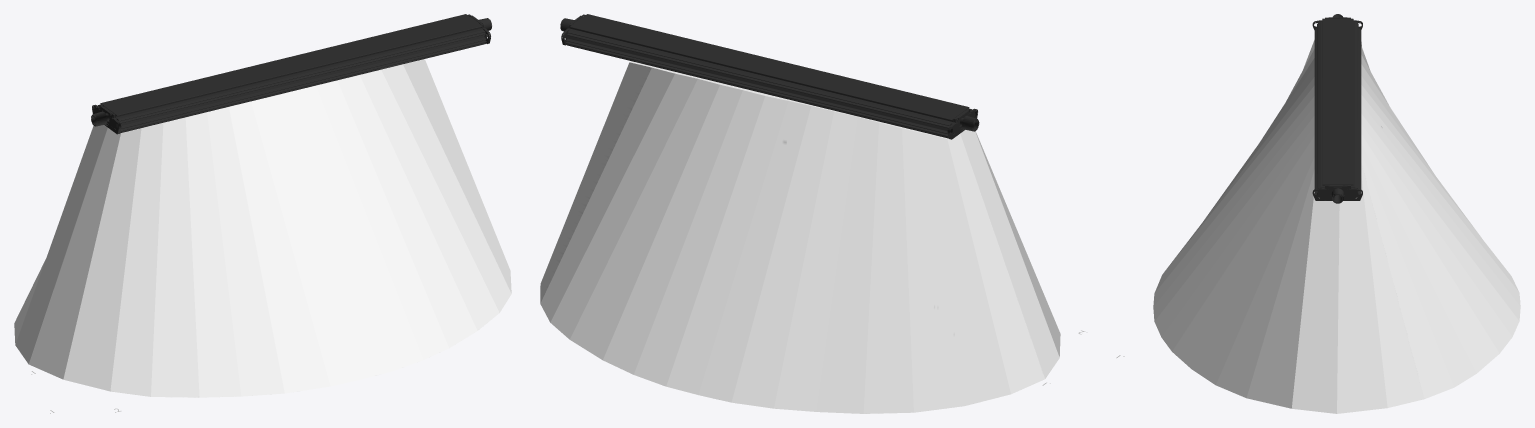
The model's file is dlla_without_cube.obj.
The picture shows the model from 3 angles, left to right: view 1: azimuth 30°, elevation 25°; view 2: azimuth 150°, elevation 25°; view 3: azimuth 270°, elevation 25°; orthographic projection. The views are drawn at different scales.
Parts seen in each view (by area): view 1: Cylinder, DLL4_UNV1S903D; view 2: Cylinder, DLL4_UNV1S903D; view 3: Cylinder, DLL4_UNV1S903D.
Part boxes in pixels (x1,y1,x2,y2): Cylinder: [14, 59, 511, 397]; DLL4_UNV1S903D: [91, 14, 491, 134]; Cylinder: [540, 61, 1060, 413]; DLL4_UNV1S903D: [560, 14, 979, 139]; Cylinder: [1153, 40, 1520, 413]; DLL4_UNV1S903D: [1312, 14, 1362, 203].
Bounding box in the file's own units: 65.69 × 30.64 × 45.24.
Materials: 3 (2 with a texture image).
